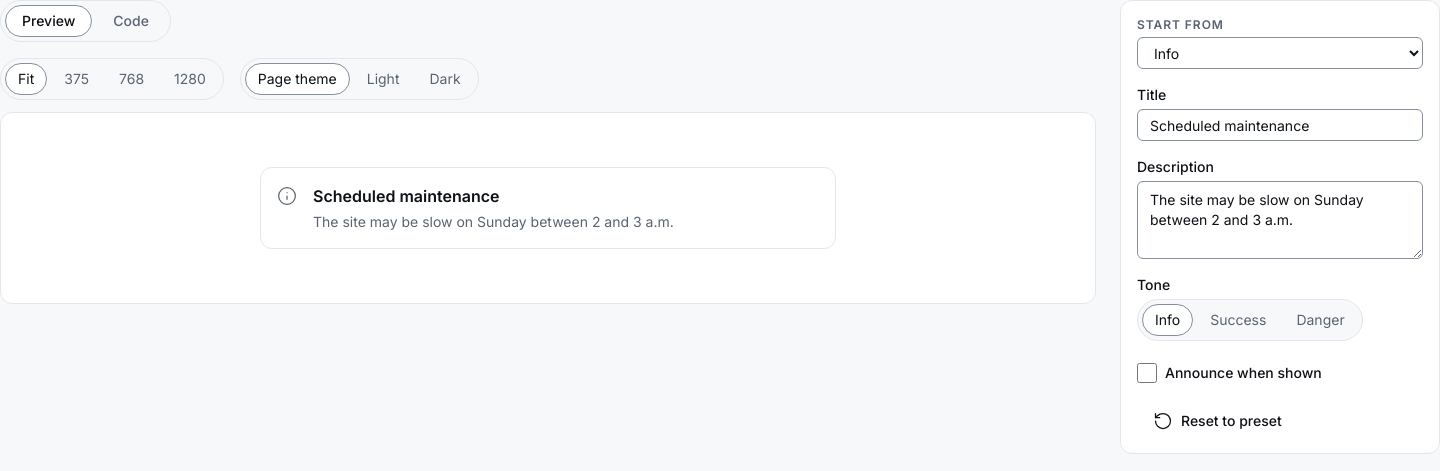
Playground › loads a preset and resets to it
Select "Danger" in the dropdown labelled "Start from" at (1280, 53), box 1137,37 -> 1423,69
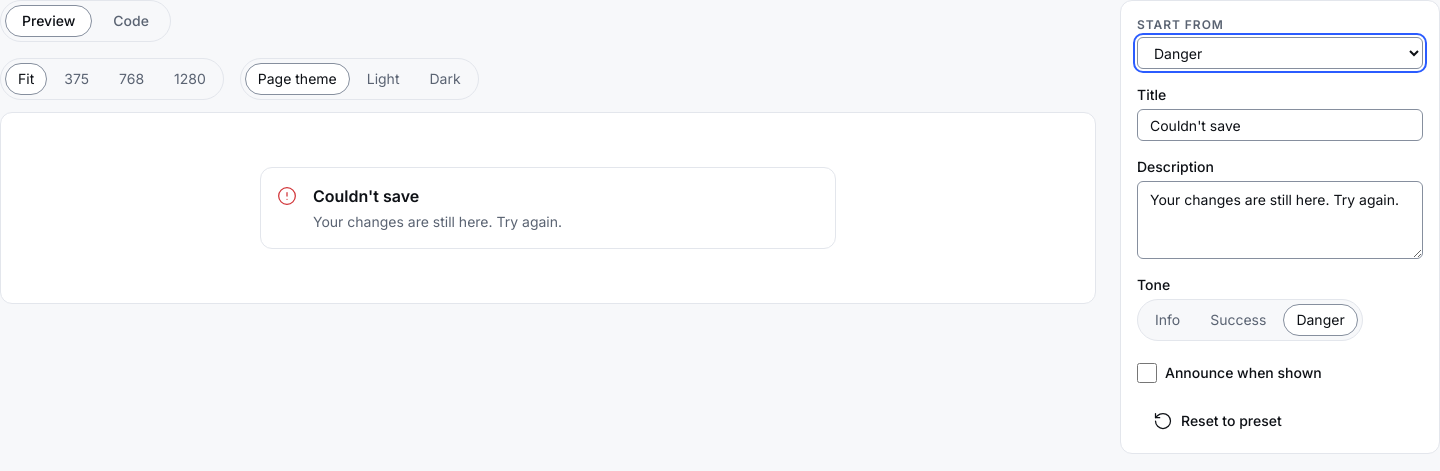
Result: the radio button labelled "Danger" is checked at 1283,304 -> 1358,336
Click the radio button labelled "Success" at (1238, 320), box 1210,311 -> 1266,328
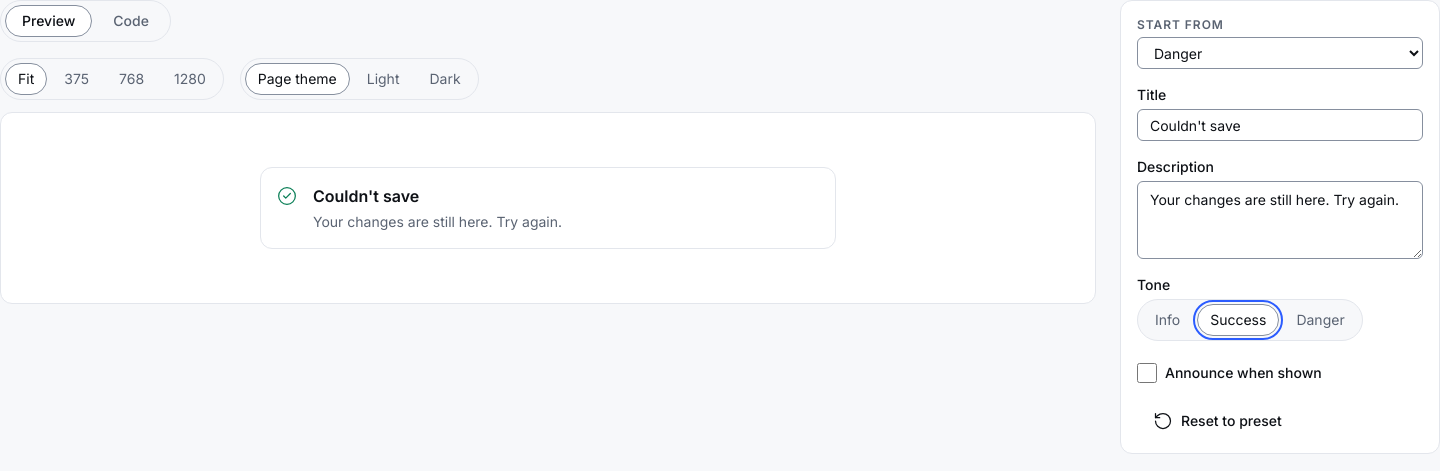
Click the button "Reset to preset" at (1217, 421), box 1137,405 -> 1298,437
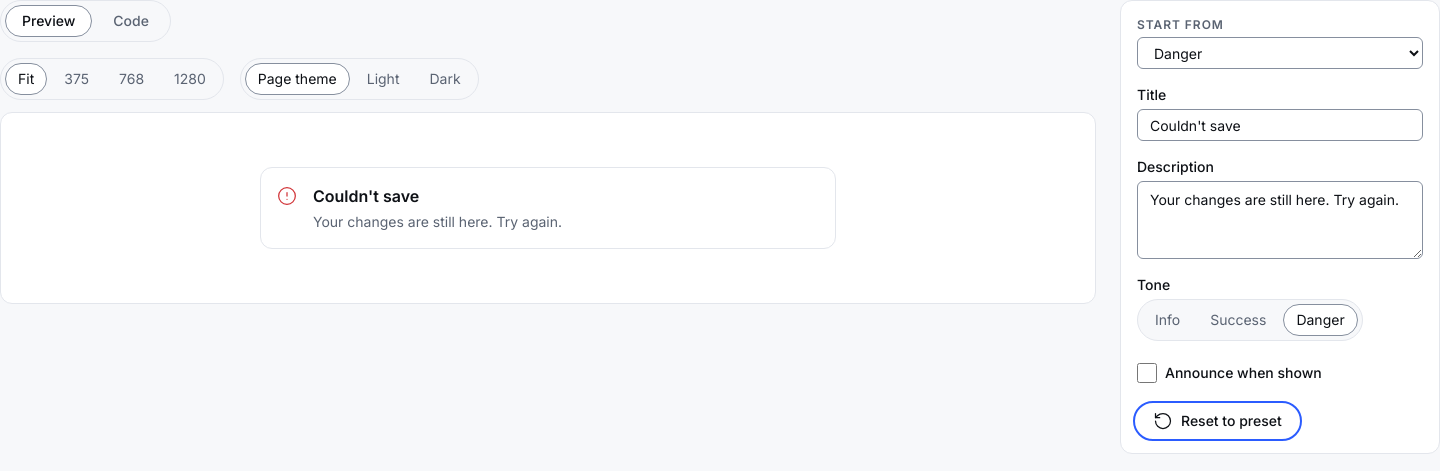
Result: the radio button labelled "Danger" is checked at 1283,304 -> 1358,336
